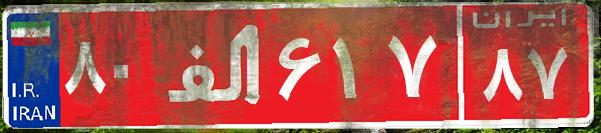0: (110, 28, 158, 105)
1: (330, 28, 385, 110)
6: (273, 28, 330, 110)
7: (385, 28, 445, 110), (525, 38, 570, 115)
8: (57, 26, 110, 107), (475, 38, 525, 113)
الف: (158, 15, 273, 115)
